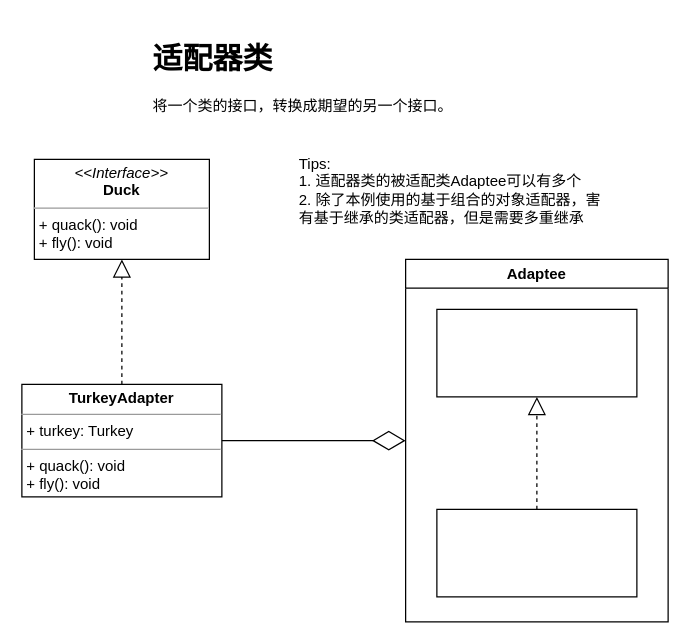
The diagram is 690 pixels wide and 644 high, and some of its shapes have lost their labels. Here are the shapes that lost their labels. From the top down, the centre of each, then its label:
the point at 536,352: Turkey + gobble(): void + fly(): void
the point at 536,552: WildTurkey + gobble(): void + fly(): void
